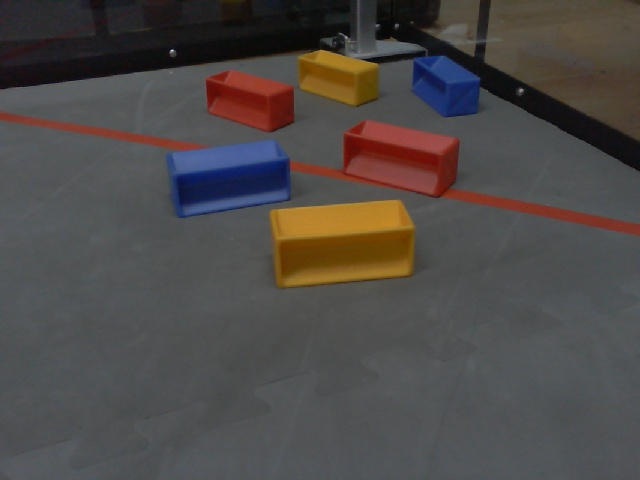BlueSample: (164, 137, 293, 215), (409, 51, 482, 121)
RedSample: (341, 118, 460, 200), (201, 65, 297, 136)
YellowSample: (266, 198, 414, 281), (299, 47, 379, 110)
